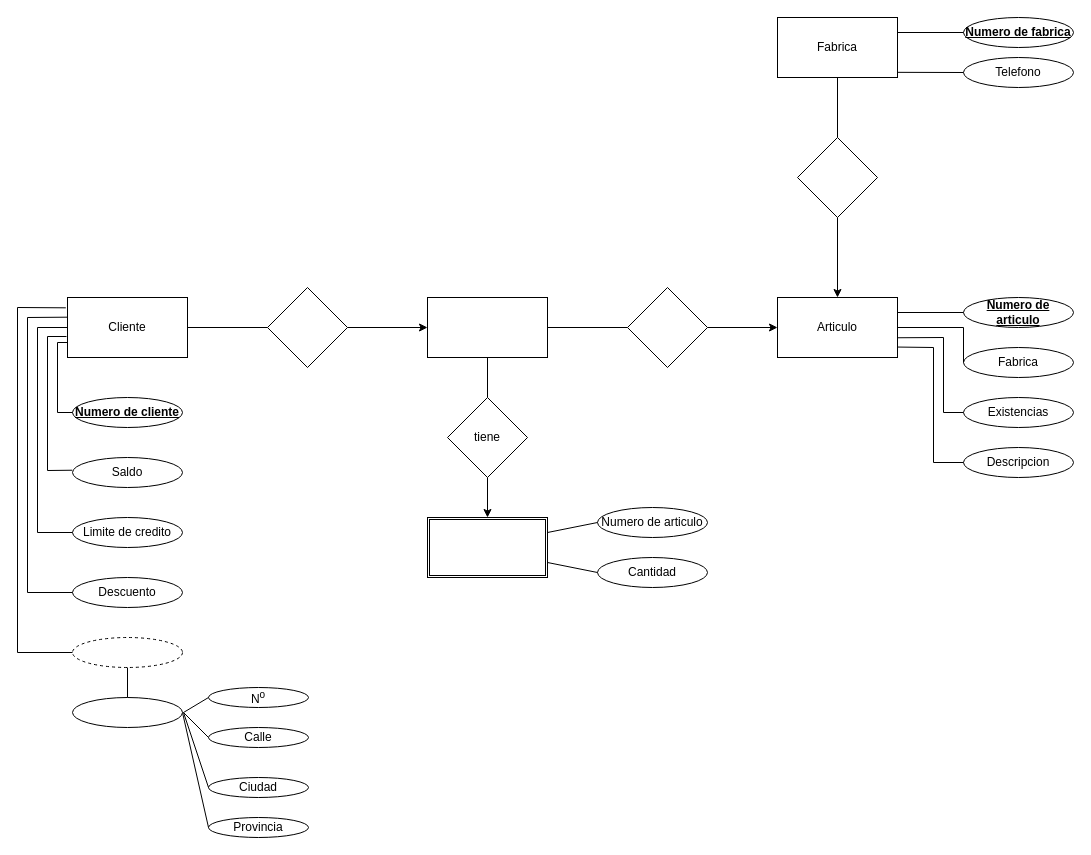
This 1091x855 diagram has some shape labels left out. Each missing label, with the centre of its shape:
"Cuerpo de pedido" belongs at [487,547].
"Direccion" belongs at [127,652].
"Direccion 1" belongs at [127,712].
"hace" belongs at [307,327].
"incluye" belongs at [667,327].
"Pedido" belongs at [487,327].
"provee" belongs at [837,177].
